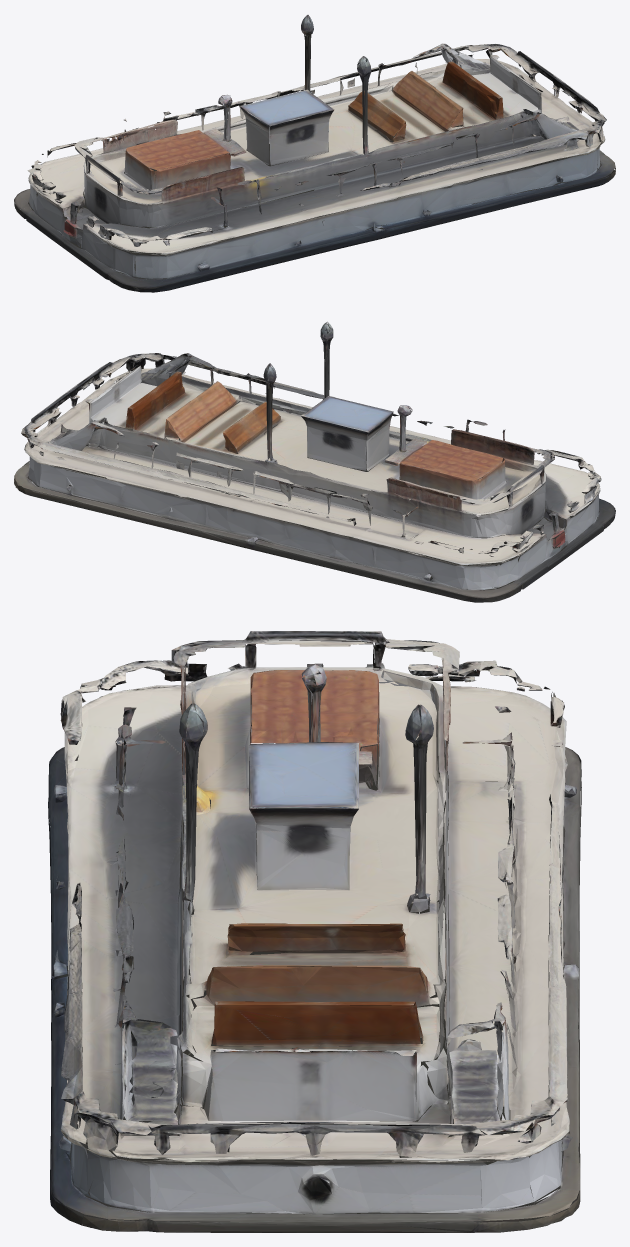
Rendered from category_mesh_boat_0.glb.
3 renders of one model, top to bottom at view 1: azimuth 30°, elevation 25°; view 2: azimuth 150°, elevation 25°; view 3: azimuth 270°, elevation 25°, orthographic. The views are drawn at different scales.
Parts seen in each view (by area): view 1: category_mesh_boat_0; view 2: category_mesh_boat_0; view 3: category_mesh_boat_0.
Boxes of the visible parts, x1,y1,x2,y2 form: category_mesh_boat_0: [14, 15, 615, 292]; category_mesh_boat_0: [14, 321, 615, 602]; category_mesh_boat_0: [48, 631, 581, 1232].
Size of the model in its own units: 1 by 0.2994 by 0.4625.
1 material, 1 textured.
